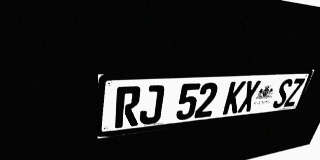2: (194, 82, 219, 118)
5: (175, 83, 201, 121)
J: (139, 85, 165, 125)
K: (222, 81, 246, 115)
R: (115, 86, 141, 128)
S: (271, 79, 294, 109)
X: (237, 80, 261, 113)
Z: (283, 78, 305, 107)
